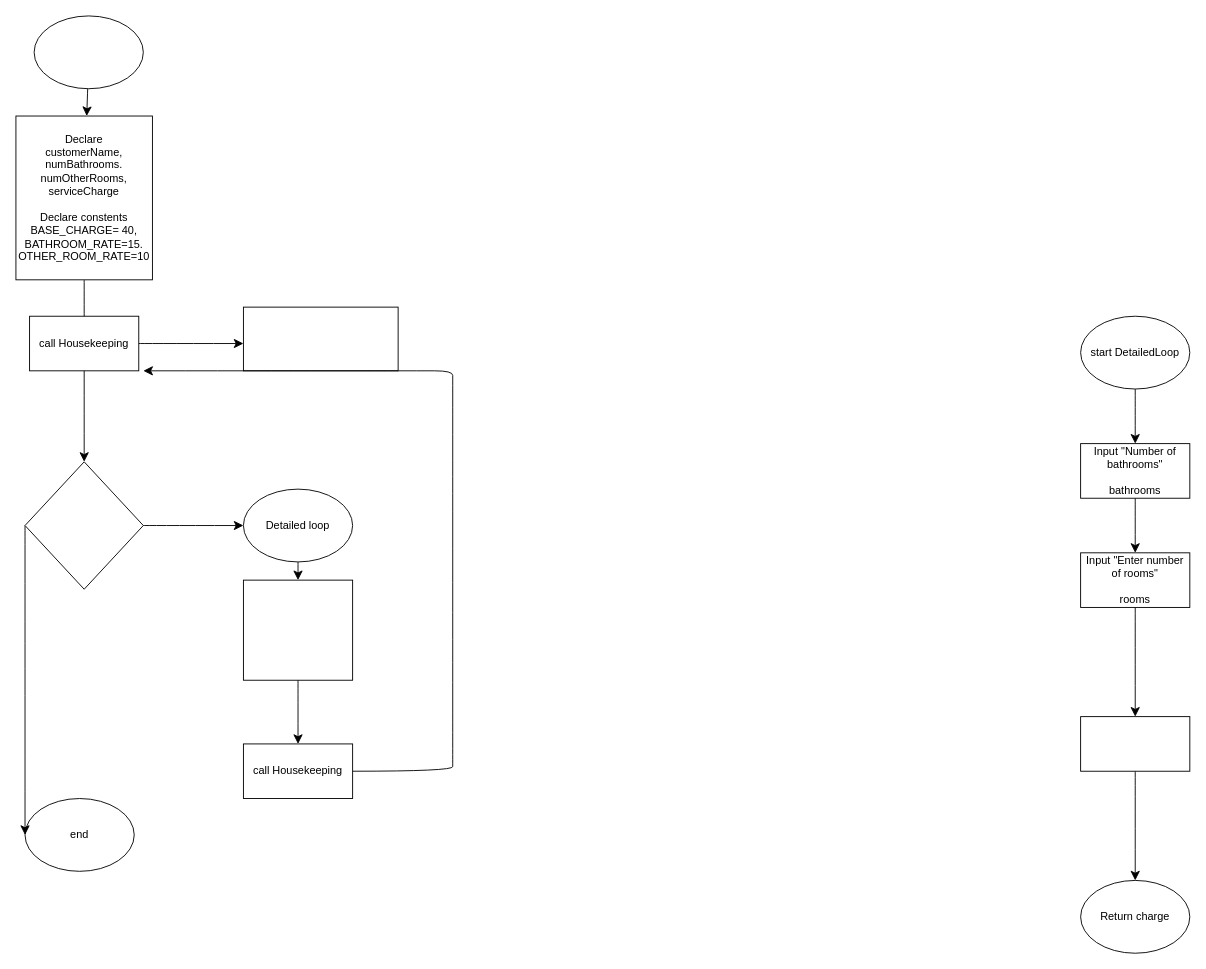
Image size: 1206x969. Some labels were removed from this diagram. Each missing label, with the centre of its shape:
customerName ="zzzz": point (83, 525)
Detailed Loop Get bathroom, rooms Compute charge DIsplay change: point (298, 629)
Input "please enter your name or enter "zzzz" to exit." Return to customerName: point (320, 338)
service charge: point (1135, 743)
start: point (88, 52)
